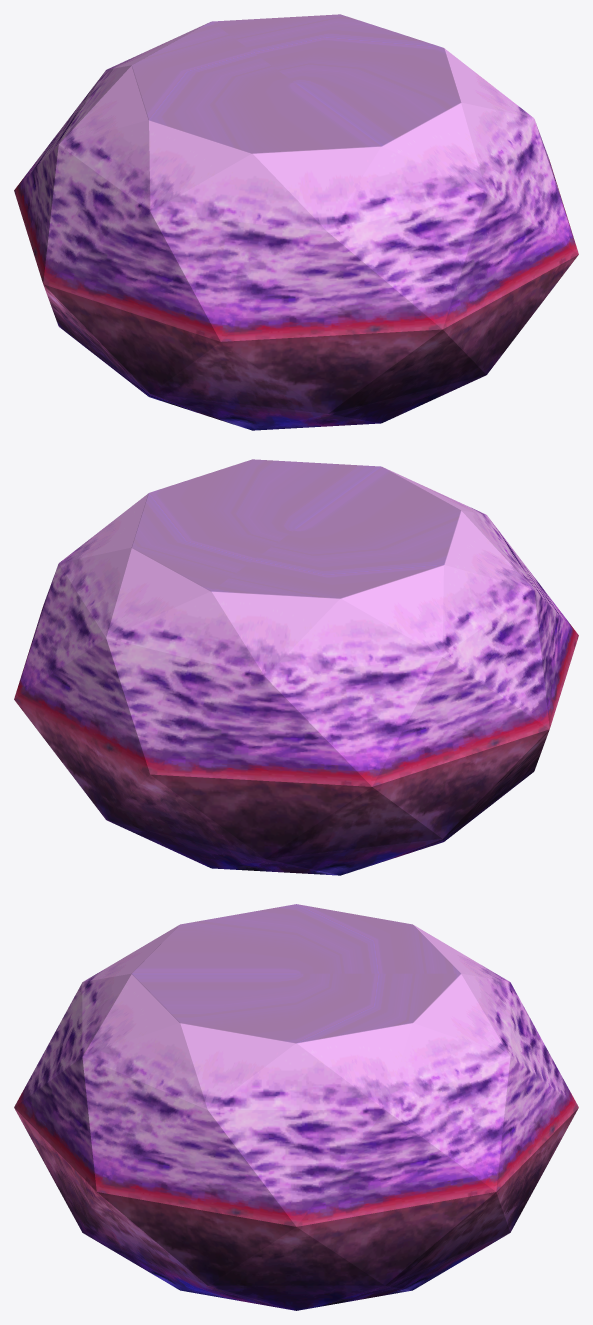
The picture shows the model from 3 angles, top to bottom: view 1: azimuth 30°, elevation 25°; view 2: azimuth 150°, elevation 25°; view 3: azimuth 270°, elevation 25°; orthographic projection. The views are drawn at different scales.
Visible parts, largest first — view 1: world_root; view 2: world_root; view 3: world_root.
Boxes of the visible parts, <box> form: world_root: <box>14,14,578,430</box>; world_root: <box>14,459,578,875</box>; world_root: <box>14,904,578,1310</box>.
Bounding box in the file's own units: 117964 × 61688 × 117964.
Materials: 1 (1 with a texture image).
